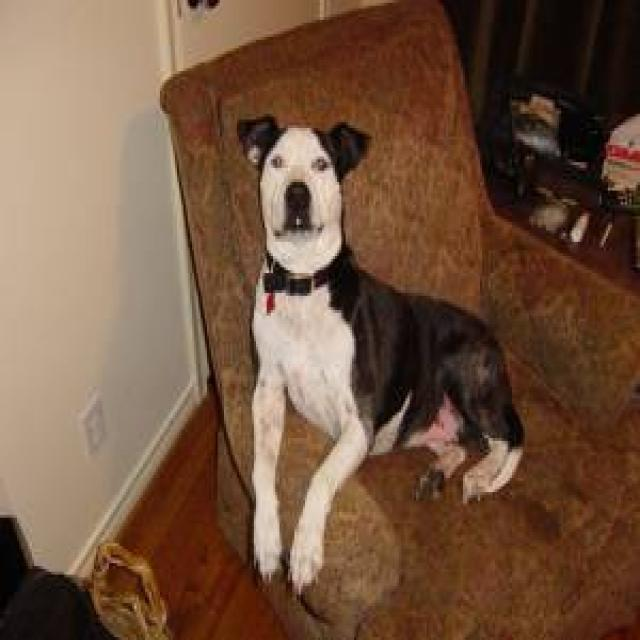dog-american_pit_bull_terrier: (235, 100, 531, 592)
